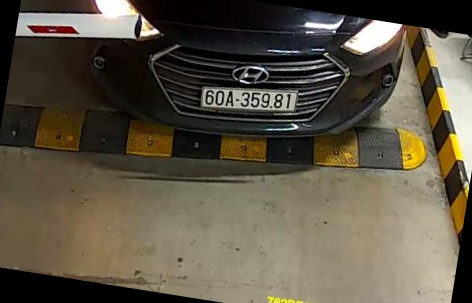plate: (196, 83, 303, 116)
